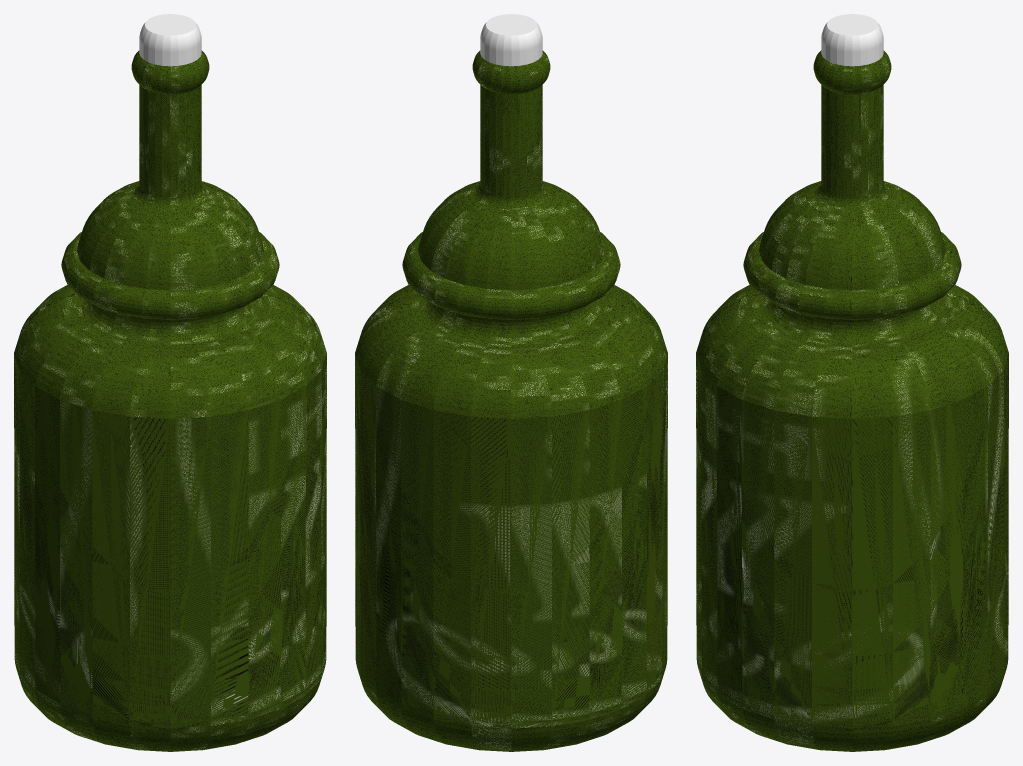
The picture shows the model from 3 angles, left to right: view 1: azimuth 30°, elevation 25°; view 2: azimuth 150°, elevation 25°; view 3: azimuth 270°, elevation 25°; orthographic projection.
Visible parts, largest first — view 1: mesh3_mesh3-geometry, mesh1_mesh1-geometry; view 2: mesh3_mesh3-geometry, mesh1_mesh1-geometry; view 3: mesh3_mesh3-geometry, mesh1_mesh1-geometry.
Part boxes in pixels (left/top/right/bottom): mesh3_mesh3-geometry: left=14, top=50, right=326, bottom=751; mesh1_mesh1-geometry: left=139, top=14, right=201, bottom=66; mesh3_mesh3-geometry: left=355, top=50, right=667, bottom=751; mesh1_mesh1-geometry: left=480, top=14, right=542, bottom=66; mesh3_mesh3-geometry: left=696, top=50, right=1008, bottom=751; mesh1_mesh1-geometry: left=821, top=14, right=883, bottom=66.
Bounding box in the file's own units: 0.36 × 0.8607 × 0.36.
